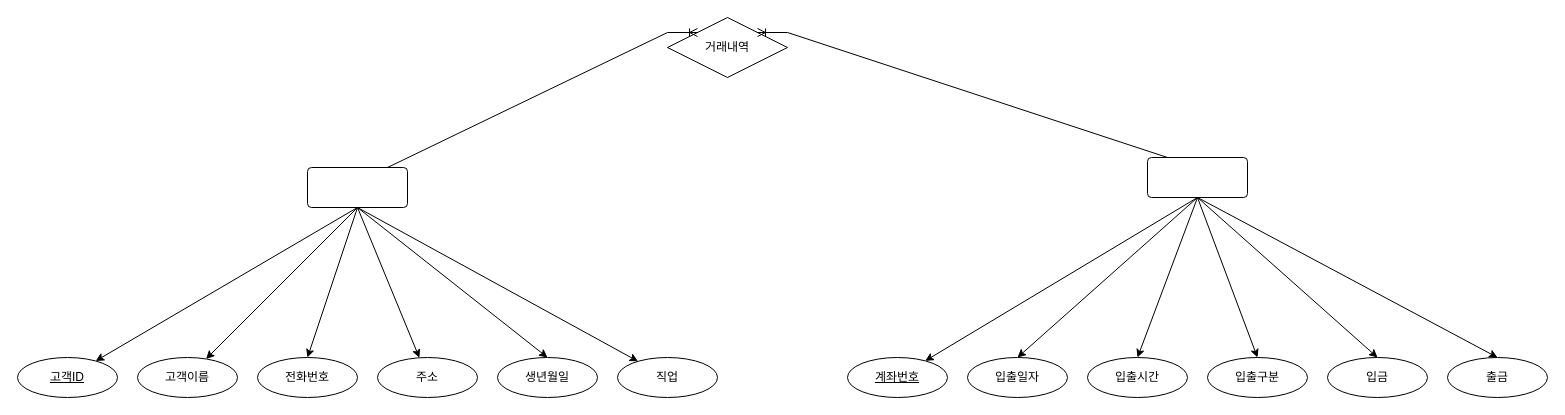
Image size: 1565x415. Some labels were removed from this diagram. The centre of each missing label's shape, as x and y in pixels:
"계좌정보" belongs at [1197,177].
"고객정보" belongs at [357,187].
